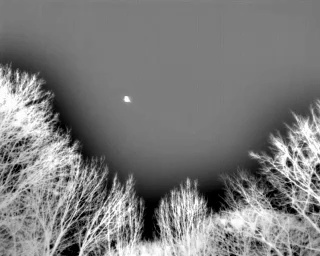BIRD: (121, 93, 133, 106)
